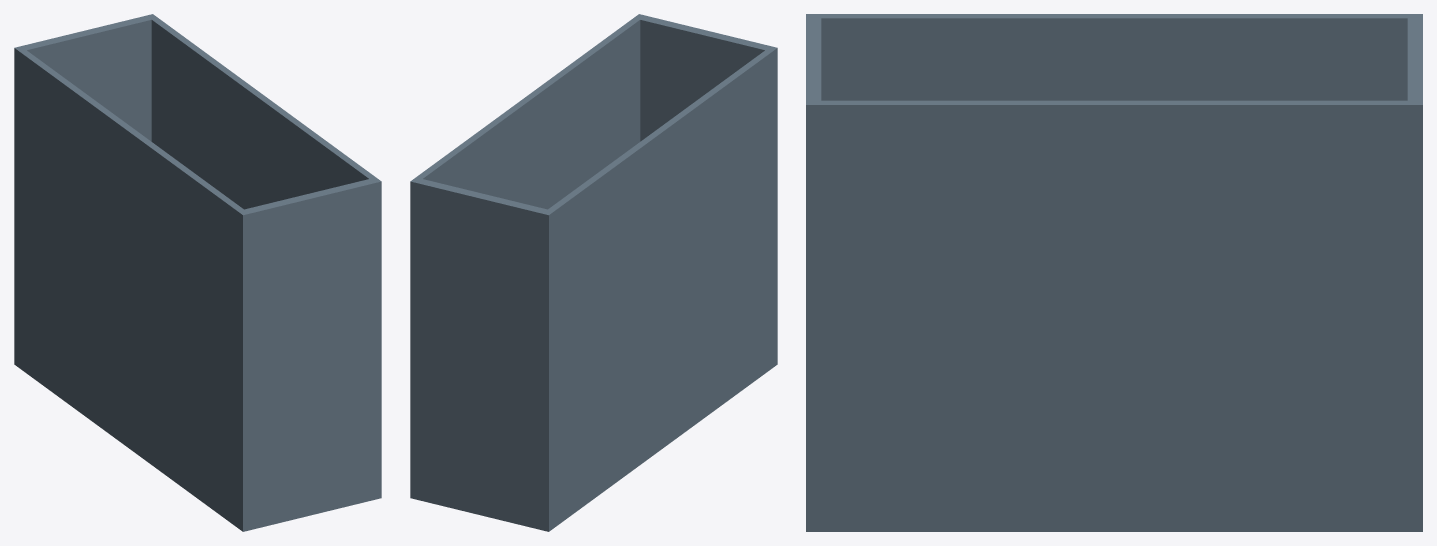
Rendered from PrintBin.dae.
The picture shows the model from 3 angles, left to right: view 1: azimuth 30°, elevation 25°; view 2: azimuth 150°, elevation 25°; view 3: azimuth 270°, elevation 25°; orthographic projection. The views are drawn at different scales.
Visible parts, largest first — view 1: Cube.008; view 2: Cube.008; view 3: Cube.008.
Part boxes in pixels (left/top/right/bottom): Cube.008: left=14, top=14, right=381, bottom=531; Cube.008: left=410, top=14, right=777, bottom=531; Cube.008: left=806, top=14, right=1422, bottom=531.
Size of the model in its own units: 0.1504 by 0.43 by 0.3284.
